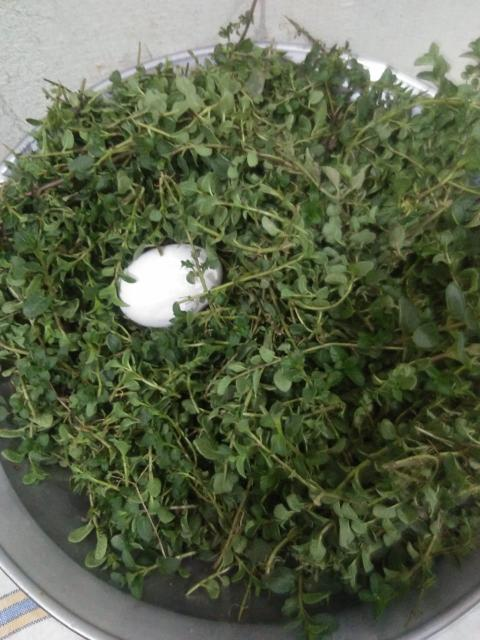Sano: (119, 243, 221, 328)
